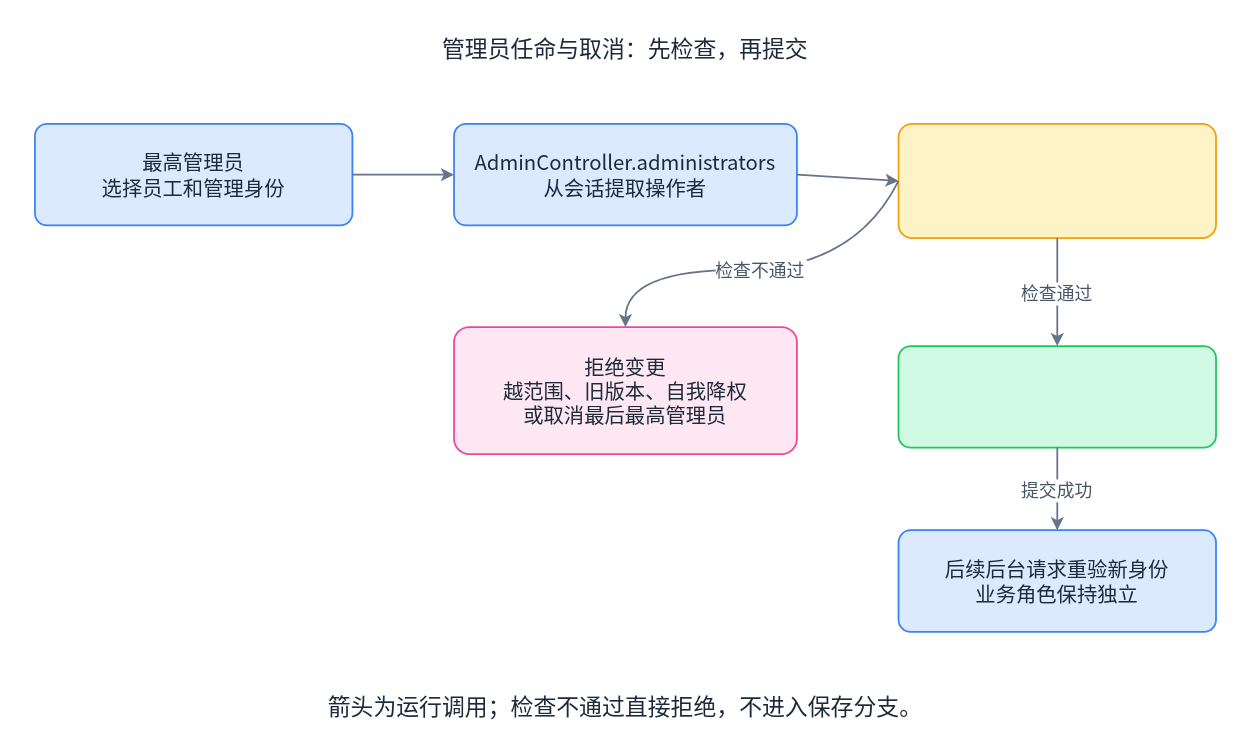
Image size: 1250x749. Some labels were removed from this diagram. The centre of each missing label's shape, as x and y in pixels:
"OrganizationService.appoint 范围、部门、版本与安全约束检查" goes at [1056,180].
"管理员身份 + 成功审计 在同一事务中保存" goes at [1056,396].
